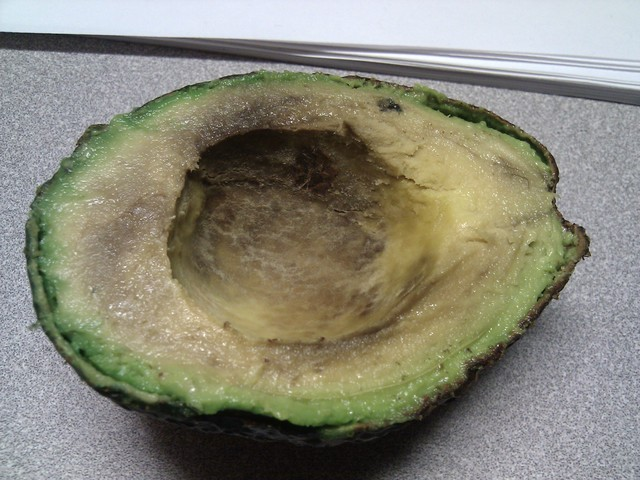damaged_avocado: (33, 68, 592, 430)
